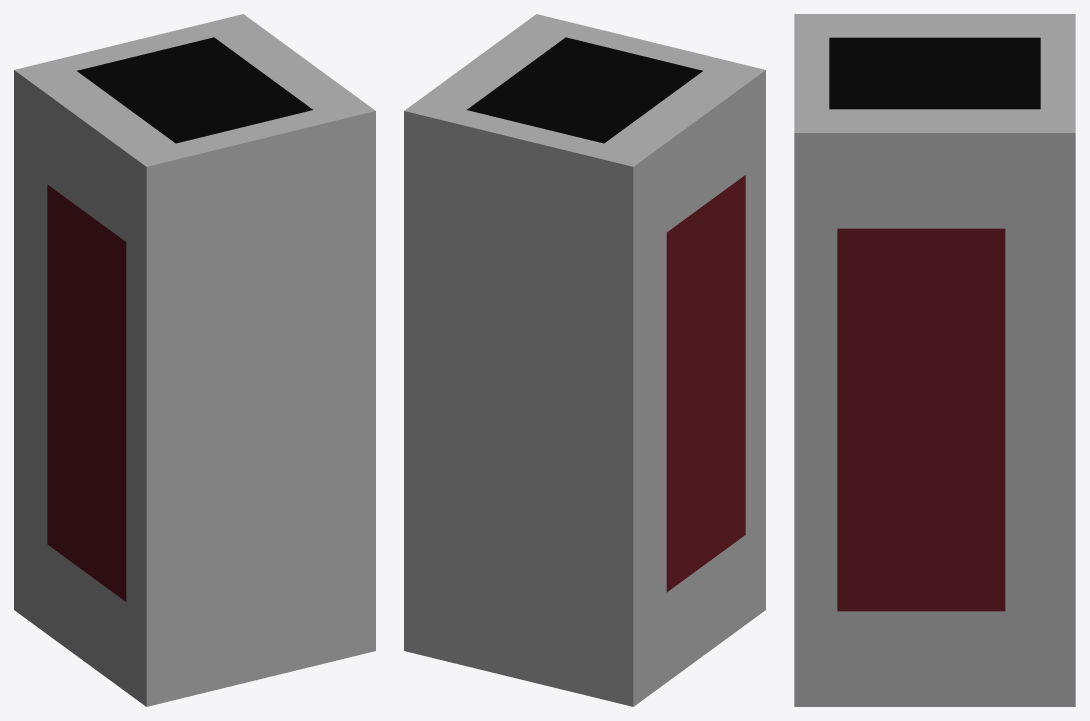
File: medicine_box_3.dae
3 renders of one model, left to right at view 1: azimuth 30°, elevation 25°; view 2: azimuth 150°, elevation 25°; view 3: azimuth 270°, elevation 25°, orthographic. The views are drawn at different scales.
Visible parts, largest first — view 1: Cube 3; view 2: Cube 3; view 3: Cube 3.
Boxes of the visible parts, left/top/right/bottom form: Cube 3: left=14, top=14, right=375, bottom=706; Cube 3: left=404, top=14, right=765, bottom=706; Cube 3: left=794, top=14, right=1075, bottom=706.
Bounding box in the file's own units: 0.04 × 0.04 × 0.09.
